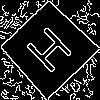H: (24, 24, 81, 83)
